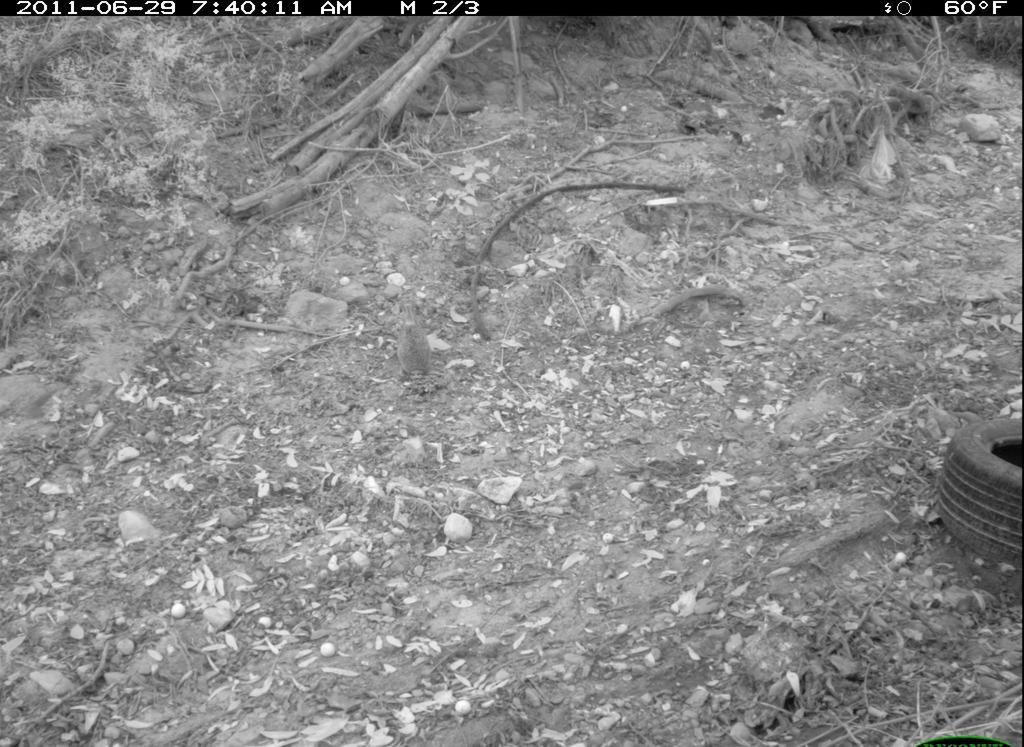rabbit: (390, 292, 438, 390)
